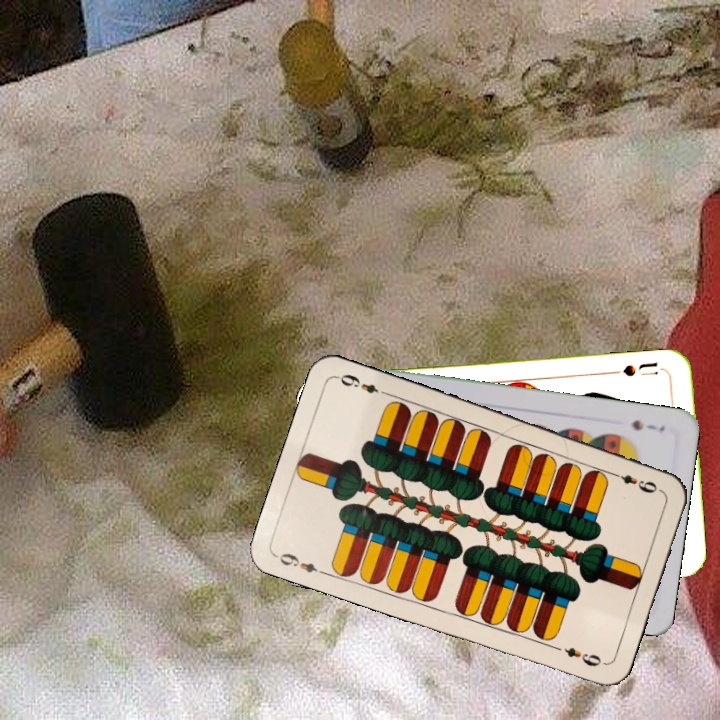E9: (272, 549, 329, 578), (607, 468, 664, 496)
S7: (627, 415, 667, 434)
SU: (609, 359, 669, 379)
